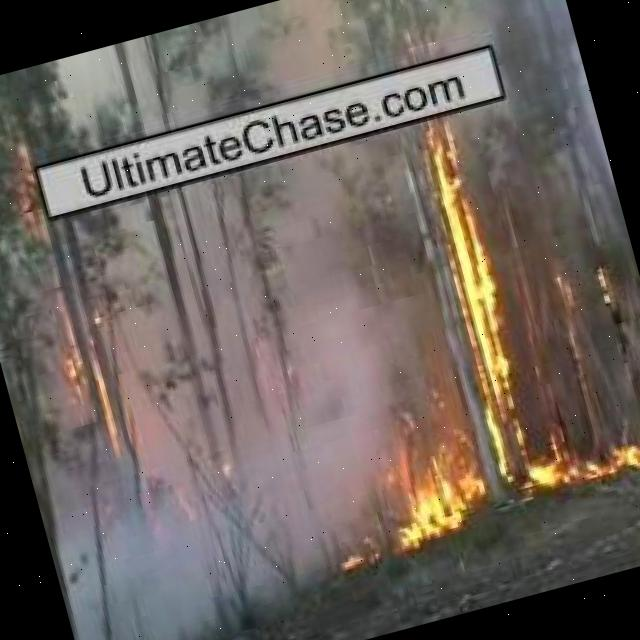fire: (408, 103, 542, 436), (389, 387, 640, 539), (50, 328, 140, 477), (0, 138, 57, 233), (586, 266, 618, 318)
